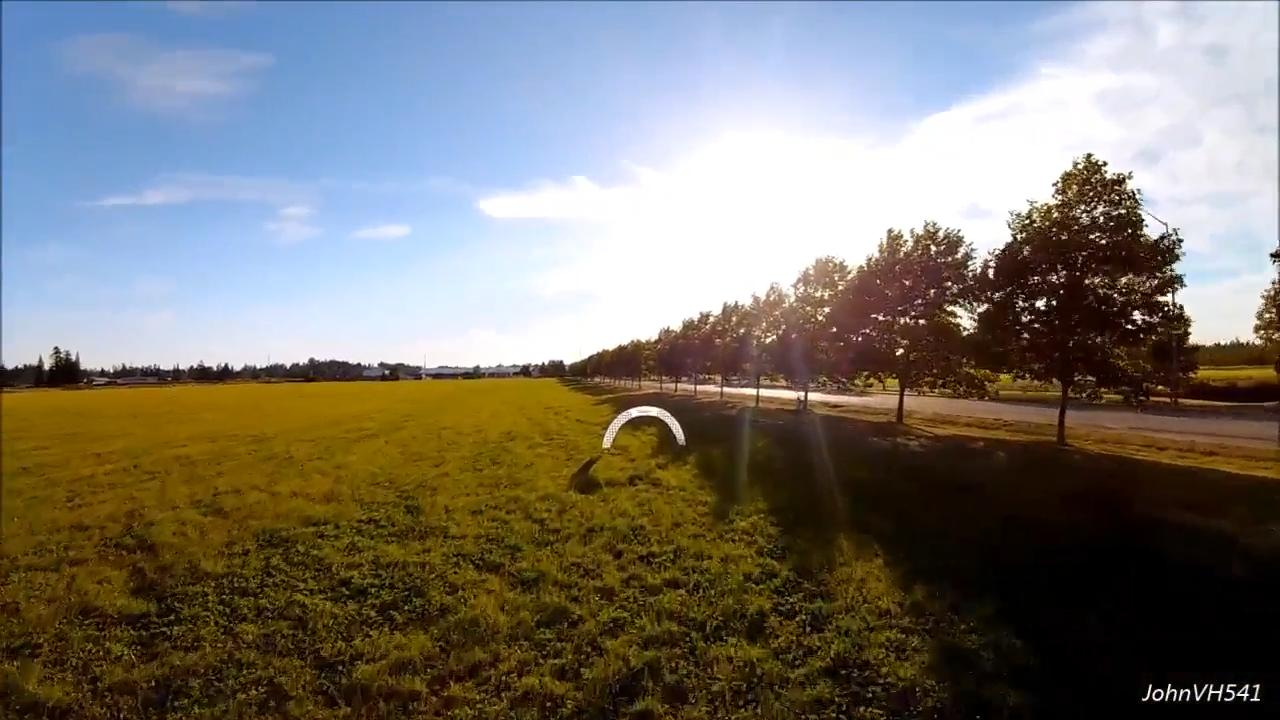gate: (597, 405, 688, 447)
